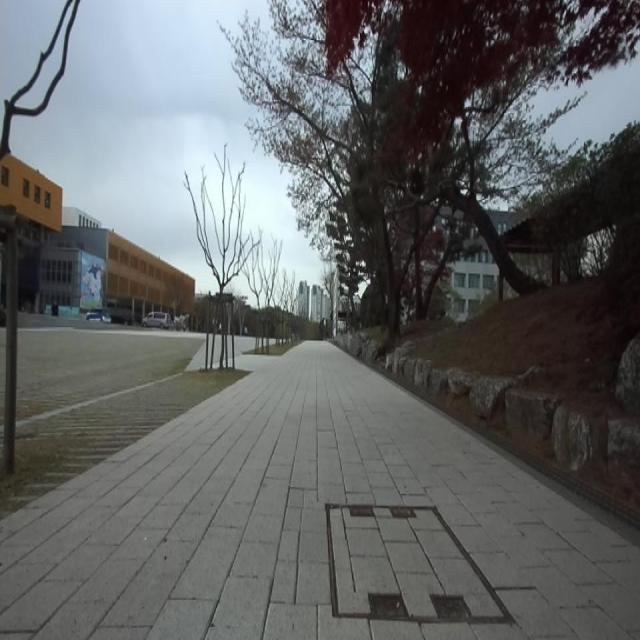sidewalk: (0, 342, 640, 639), (236, 336, 254, 368), (185, 342, 204, 371), (188, 344, 204, 370), (213, 338, 219, 368)
